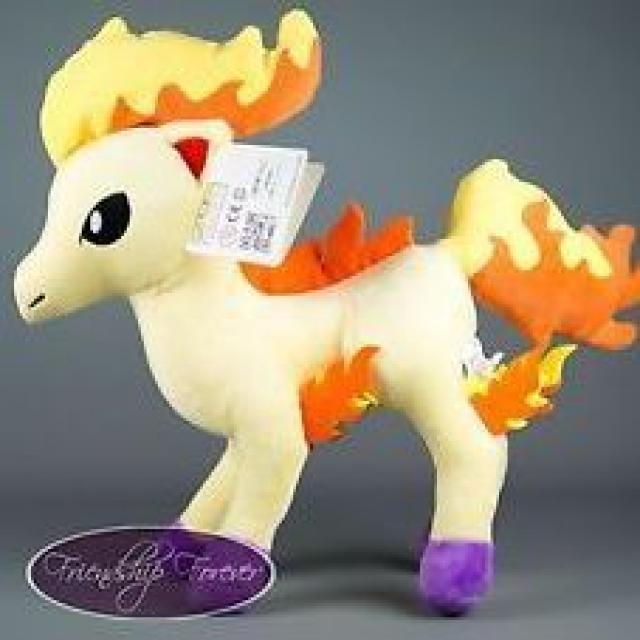Ponyta: (27, 41, 532, 610)
